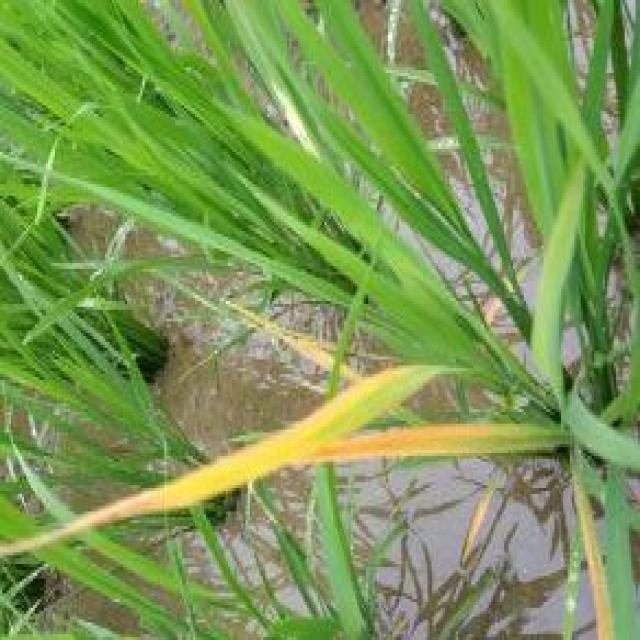Tungro: (52, 350, 560, 546)
